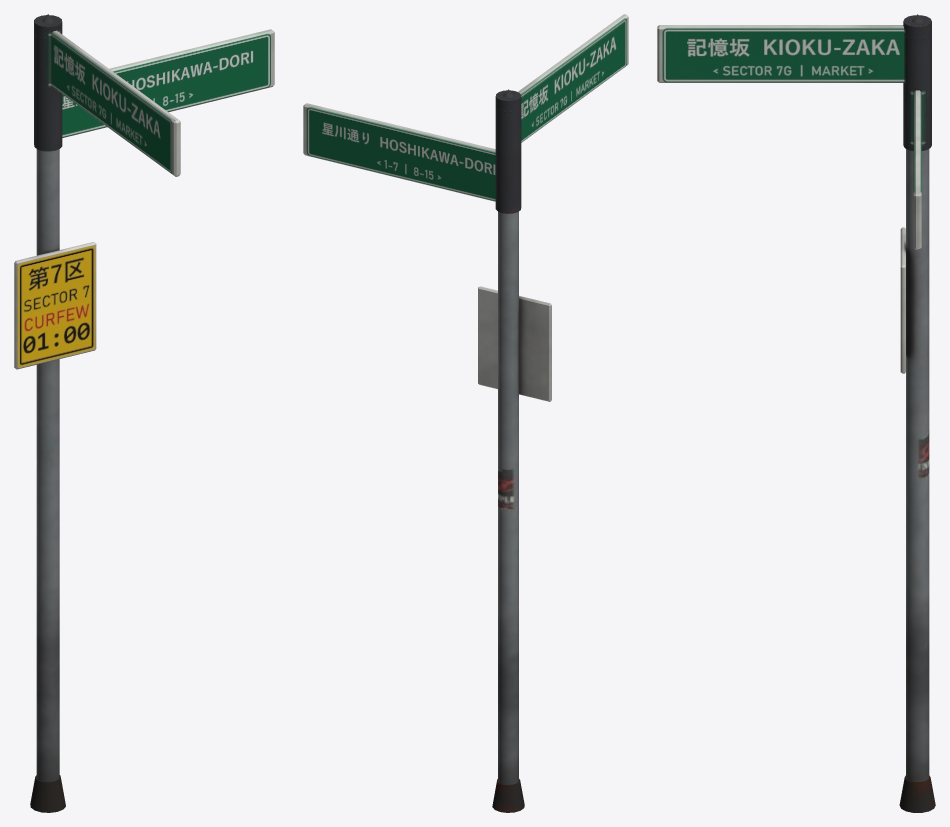
File: street_name_sign.glb
3 renders of one model, left to right at view 1: azimuth 30°, elevation 25°; view 2: azimuth 150°, elevation 25°; view 3: azimuth 270°, elevation 25°, orthographic. The views are drawn at different scales.
Visible parts, largest first — view 1: street_name_sign; view 2: street_name_sign; view 3: street_name_sign.
Boxes of the visible parts, bbox=[...] form: street_name_sign: bbox=[14, 14, 274, 812]; street_name_sign: bbox=[303, 14, 628, 812]; street_name_sign: bbox=[657, 14, 935, 812].
Size of what is drawn, in the model's own units: 1.19 by 3.37 by 1.07.
Materials: 1 (1 with a texture image).
